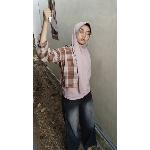Pisau: (44, 9, 64, 36)
